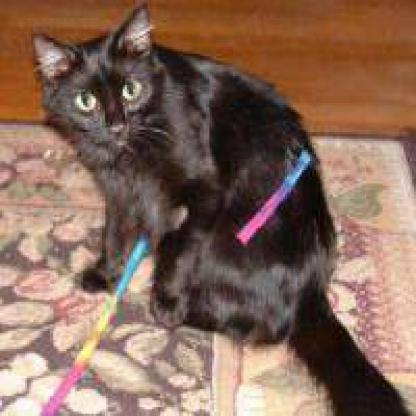cat: (16, 8, 350, 323)
